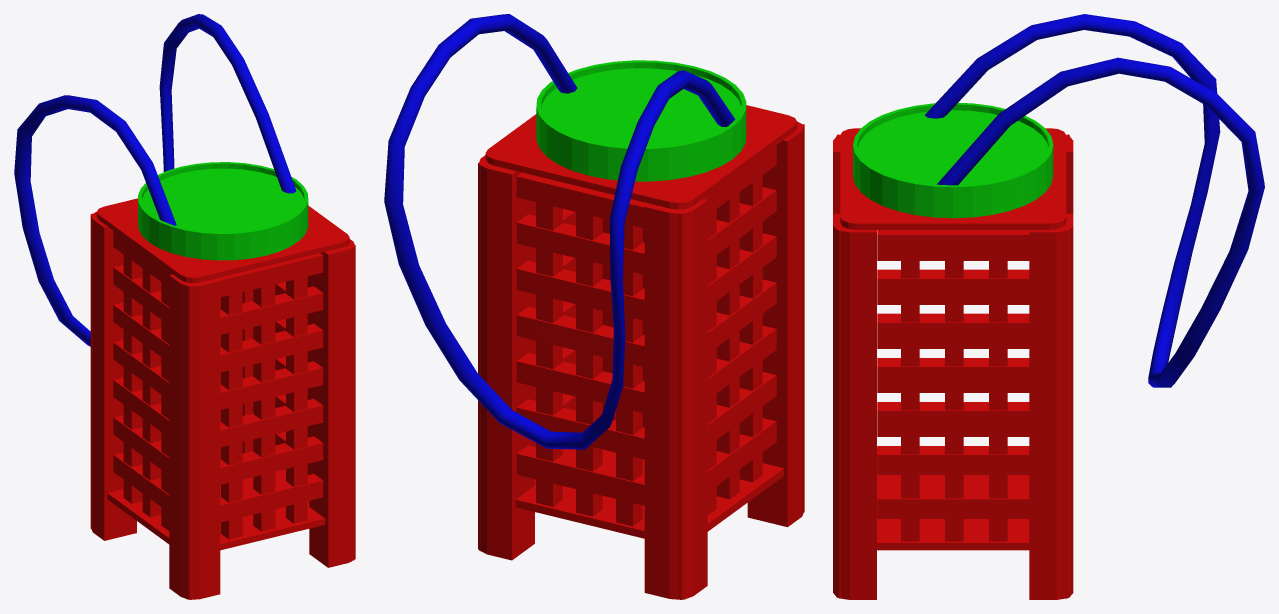
Rendered from mv_LanternC.fbx.
The picture shows the model from 3 angles, left to right: view 1: azimuth 30°, elevation 25°; view 2: azimuth 150°, elevation 25°; view 3: azimuth 270°, elevation 25°; orthographic projection. The views are drawn at different scales.
Visible parts, largest first — view 1: LanternC_LOD0; view 2: LanternC_LOD0; view 3: LanternC_LOD0.
Part boxes in pixels (bbox=[...]): LanternC_LOD0: bbox=[14, 14, 355, 599]; LanternC_LOD0: bbox=[384, 14, 804, 599]; LanternC_LOD0: bbox=[833, 14, 1264, 599].
Size of what is drawn, in the model's own units: 16.9 by 39.88 by 29.46.
